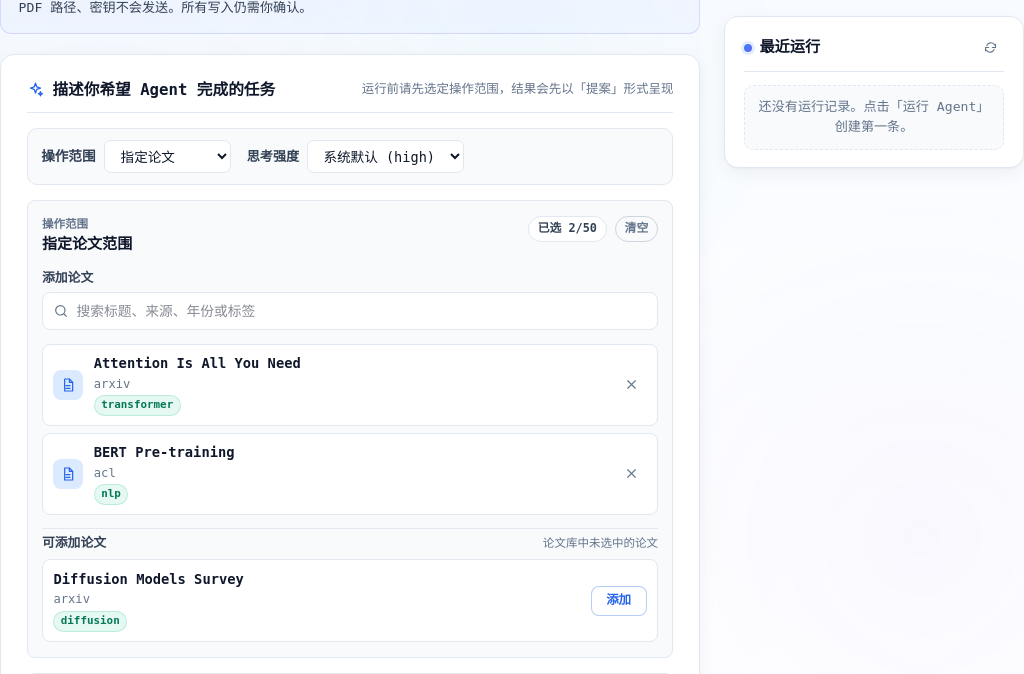
Test case: papers scope from url shows selected papers and supports remove
(page scrolled)
Expected: the text "Attention Is All You Need" is shown, [94,355,301,371]
Expected: the text "BERT Pre-training" is shown, [94,444,234,460]
Click the button named "移除 Attention Is All You Need". click: (631,385)
box: [616,370,646,400]
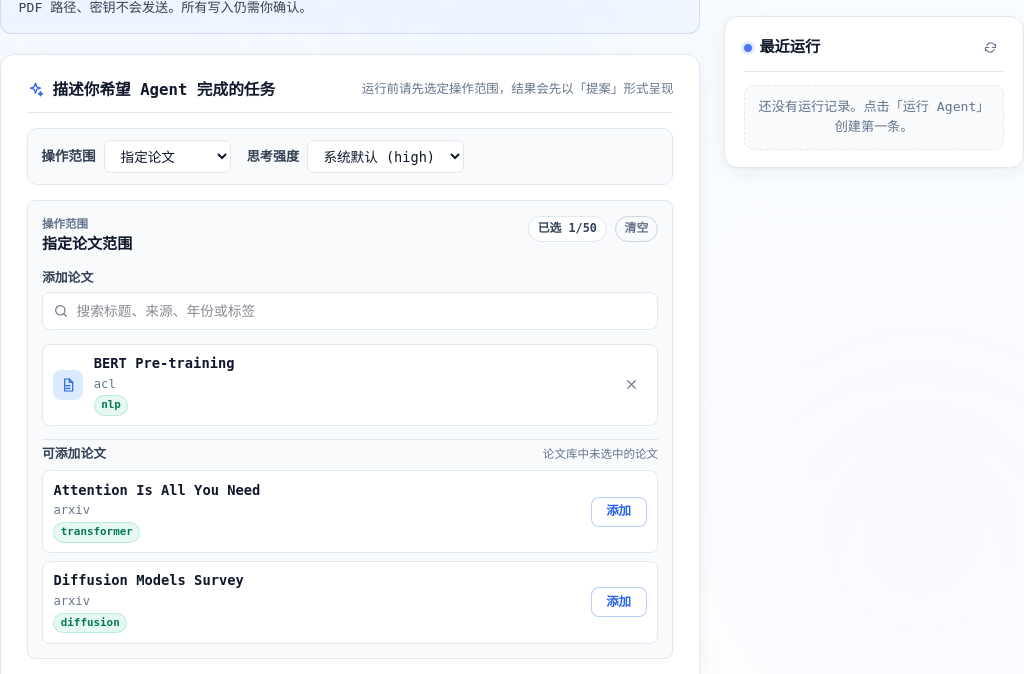
Expected: the text "BERT Pre-training" is shown, [94,355,234,371]
Now the button with aria-label "添加 Attention Is All You Need 到指定论文范围" is shown, box [591,497,647,527]
